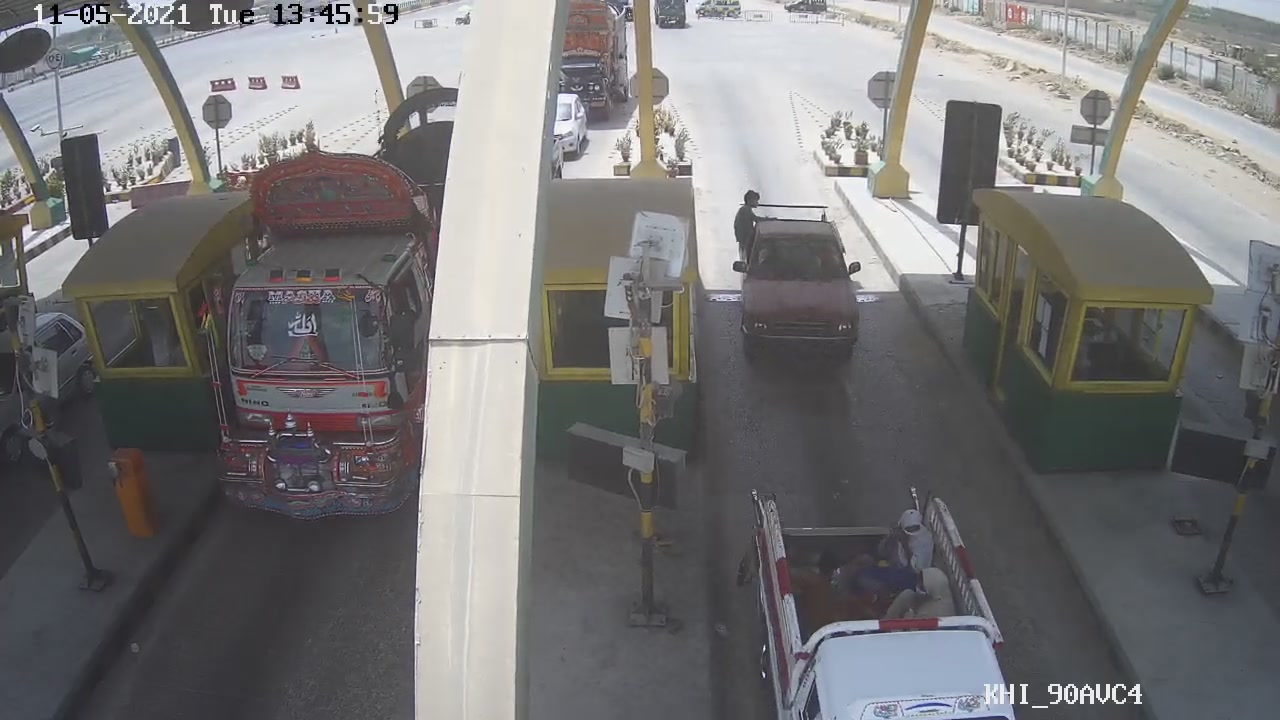F1: (730, 194, 870, 380)
